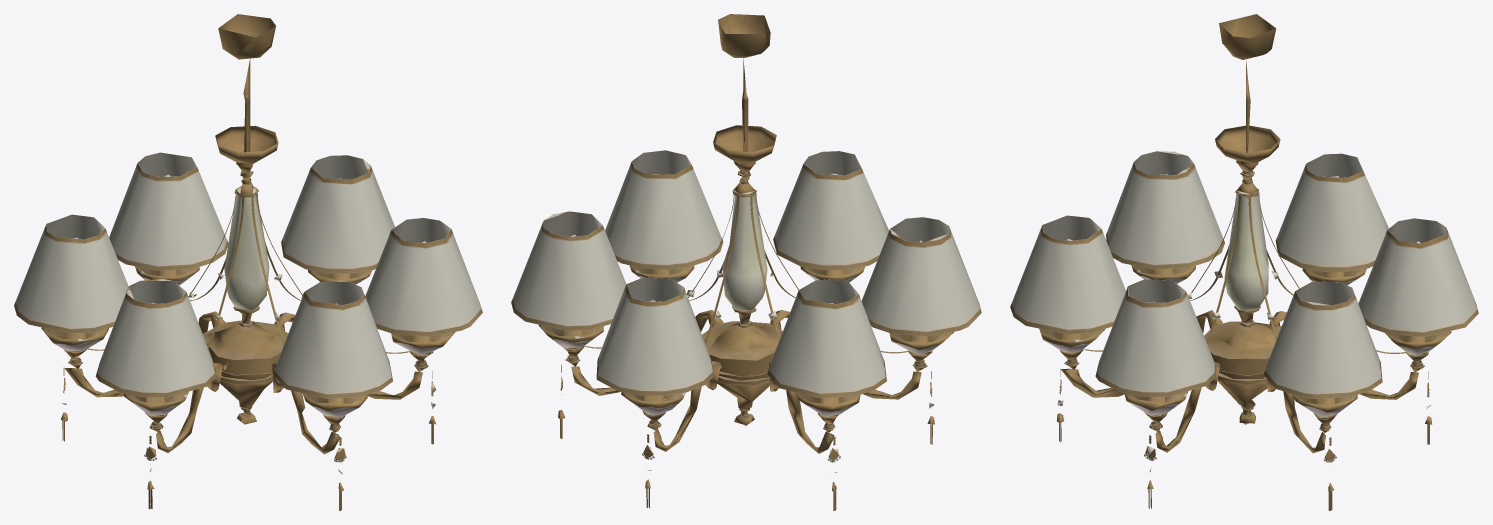
The model's file is Chandelier_01.glb.
3 views of the same model, side by side, from view 1: azimuth 30°, elevation 25°; view 2: azimuth 150°, elevation 25°; view 3: azimuth 270°, elevation 25° (orthographic).
Visible parts, largest first — view 1: Chandelier_01; view 2: Chandelier_01; view 3: Chandelier_01.
Part boxes in pixels (left/top/right/bottom): Chandelier_01: left=14, top=14, right=482, bottom=510; Chandelier_01: left=511, top=14, right=981, bottom=510; Chandelier_01: left=1010, top=14, right=1478, bottom=510.
Bounding box in the file's own units: 0.7443 × 0.7982 × 0.8155.
2 materials, 1 textured.
